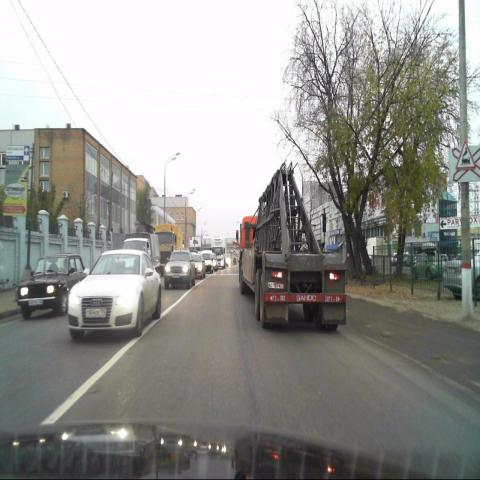1_2: (456, 141, 474, 169)
